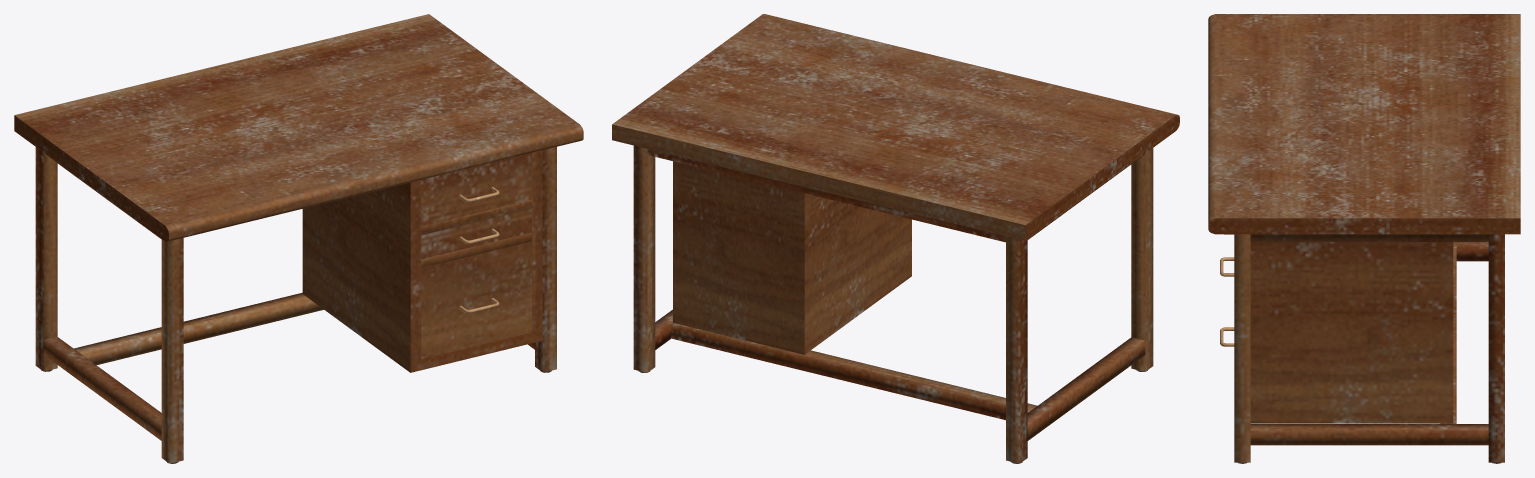
File: 147_OfficeDesk.fbx
The picture shows the model from 3 angles, left to right: view 1: azimuth 30°, elevation 25°; view 2: azimuth 150°, elevation 25°; view 3: azimuth 270°, elevation 25°; orthographic projection.
Visible parts, largest first — view 1: LOD_1_Group_0_Sub_1__sm30_147_OfficeDesk01A_A_Mat, LOD_1_Group_3_Sub_1__sm30_147_OfficeDesk01A_A_Mat, LOD_1_Group_5_Sub_1__sm30_147_OfficeDesk01A_A_Mat, LOD_1_Group_1_Sub_1__sm30_147_OfficeDesk01A_A_Mat, LOD_1_Group_2_Sub_1__sm30_147_OfficeDesk01A_A_Mat; view 2: LOD_1_Group_0_Sub_1__sm30_147_OfficeDesk01A_A_Mat, LOD_1_Group_3_Sub_1__sm30_147_OfficeDesk01A_A_Mat, LOD_1_Group_1_Sub_1__sm30_147_OfficeDesk01A_A_Mat, LOD_1_Group_2_Sub_1__sm30_147_OfficeDesk01A_A_Mat, LOD_1_Group_8_Sub_1__sm30_147_OfficeDesk01A_A_Mat; view 3: LOD_1_Group_0_Sub_1__sm30_147_OfficeDesk01A_A_Mat, LOD_1_Group_3_Sub_1__sm30_147_OfficeDesk01A_A_Mat, LOD_1_Group_1_Sub_1__sm30_147_OfficeDesk01A_A_Mat, LOD_1_Group_9_Sub_1__sm30_147_OfficeDesk01A_A_Mat, LOD_1_Group_2_Sub_1__sm30_147_OfficeDesk01A_A_Mat, LOD_1_Group_5_Sub_1__sm30_147_OfficeDesk01A_A_Mat.
Boxes of the visible parts, left/top/right/bottom form: LOD_1_Group_0_Sub_1__sm30_147_OfficeDesk01A_A_Mat: left=14, top=14, right=583, bottom=241; LOD_1_Group_3_Sub_1__sm30_147_OfficeDesk01A_A_Mat: left=302, top=150, right=542, bottom=372; LOD_1_Group_5_Sub_1__sm30_147_OfficeDesk01A_A_Mat: left=421, top=153, right=531, bottom=358; LOD_1_Group_1_Sub_1__sm30_147_OfficeDesk01A_A_Mat: left=35, top=147, right=556, bottom=463; LOD_1_Group_2_Sub_1__sm30_147_OfficeDesk01A_A_Mat: left=74, top=292, right=323, bottom=365; LOD_1_Group_0_Sub_1__sm30_147_OfficeDesk01A_A_Mat: left=612, top=14, right=1179, bottom=240; LOD_1_Group_3_Sub_1__sm30_147_OfficeDesk01A_A_Mat: left=673, top=161, right=911, bottom=354; LOD_1_Group_1_Sub_1__sm30_147_OfficeDesk01A_A_Mat: left=633, top=145, right=1153, bottom=463; LOD_1_Group_2_Sub_1__sm30_147_OfficeDesk01A_A_Mat: left=671, top=323, right=1037, bottom=420; LOD_1_Group_8_Sub_1__sm30_147_OfficeDesk01A_A_Mat: left=647, top=149, right=1005, bottom=242; LOD_1_Group_0_Sub_1__sm30_147_OfficeDesk01A_A_Mat: left=1208, top=14, right=1520, bottom=234; LOD_1_Group_3_Sub_1__sm30_147_OfficeDesk01A_A_Mat: left=1250, top=242, right=1453, bottom=423; LOD_1_Group_1_Sub_1__sm30_147_OfficeDesk01A_A_Mat: left=1234, top=234, right=1504, bottom=463; LOD_1_Group_9_Sub_1__sm30_147_OfficeDesk01A_A_Mat: left=1250, top=234, right=1488, bottom=241; LOD_1_Group_2_Sub_1__sm30_147_OfficeDesk01A_A_Mat: left=1440, top=246, right=1456, bottom=423; LOD_1_Group_5_Sub_1__sm30_147_OfficeDesk01A_A_Mat: left=1220, top=234, right=1234, bottom=346.
Bounding box in the file's own units: 1.54 × 0.8873 × 0.9929.
